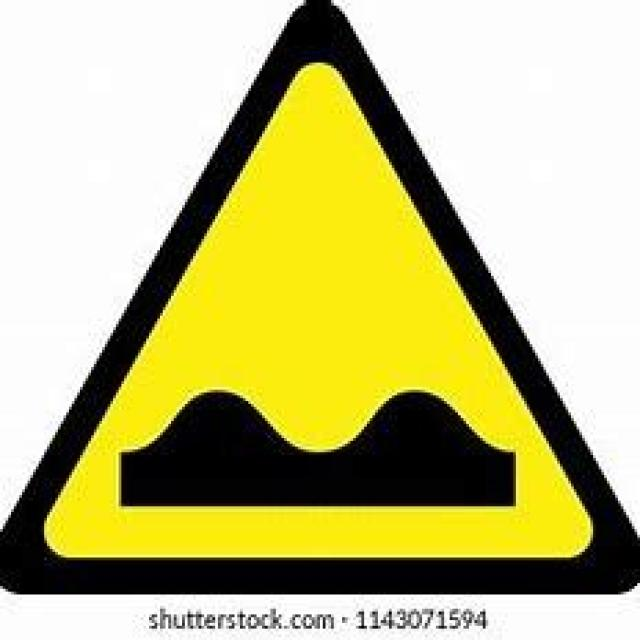horn_prohibited: (0, 0, 637, 592)
